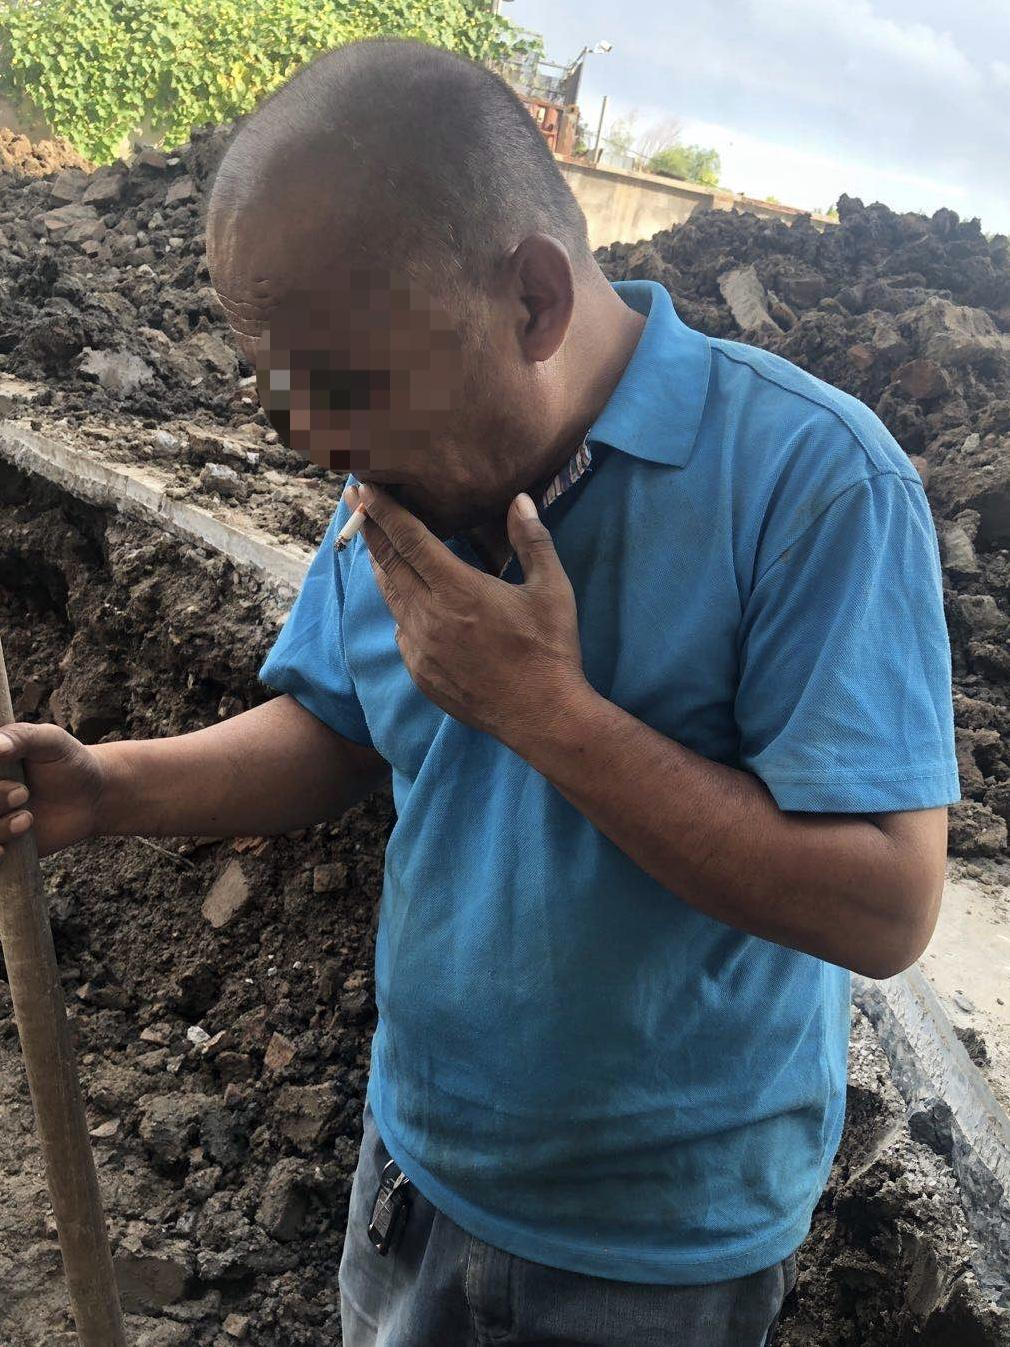smoke: (328, 504, 373, 557)
